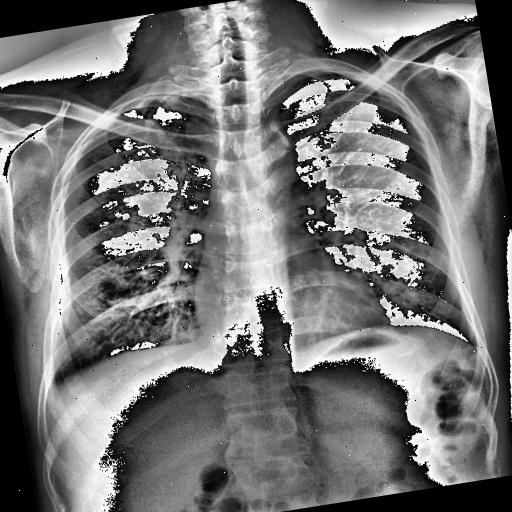10- Pleural effusion: (32, 372, 70, 408)
11- Pleural thickening: (110, 86, 184, 116), (123, 90, 183, 116), (32, 372, 70, 408), (119, 90, 181, 112)
13- Pulmonary fibrosis: (138, 108, 174, 151)
6- Infiltration: (79, 252, 167, 346), (362, 255, 420, 318), (100, 196, 150, 245), (100, 194, 148, 240)
7- Lung Opacity: (79, 252, 167, 346), (100, 196, 150, 245)
